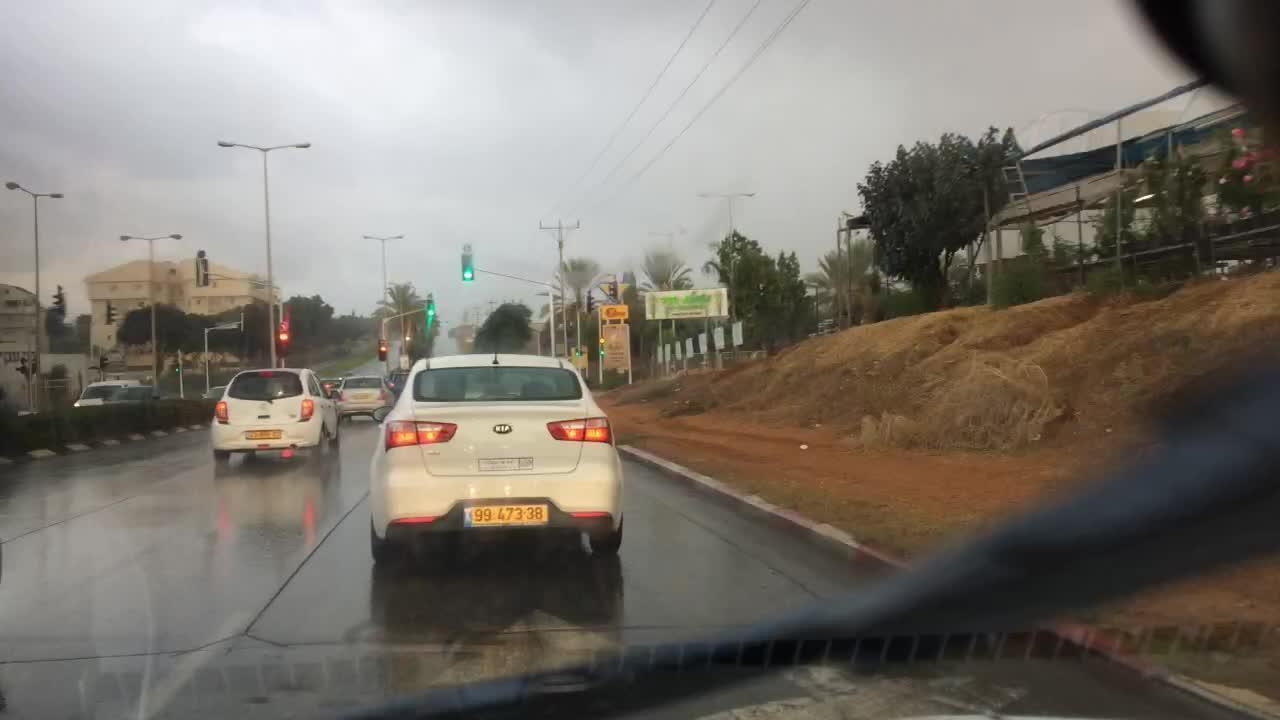kia: (489, 421, 516, 438)
